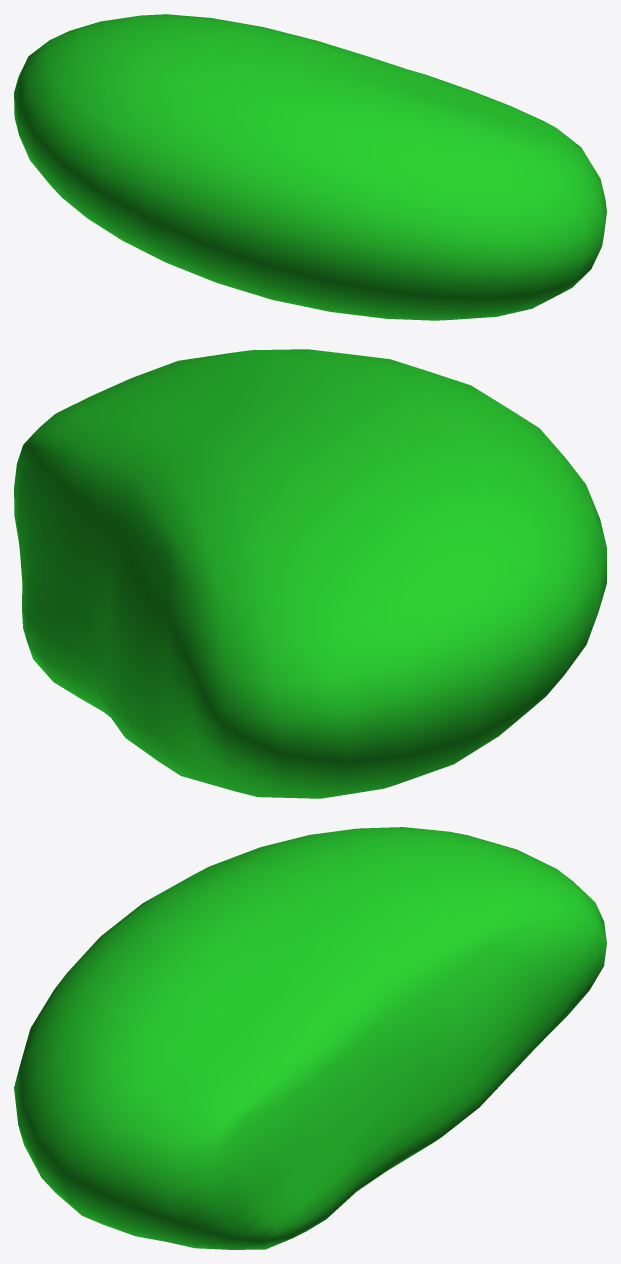
Rendered from candy7.fbx.
The picture shows the model from 3 angles, top to bottom: view 1: azimuth 30°, elevation 25°; view 2: azimuth 150°, elevation 25°; view 3: azimuth 270°, elevation 25°; orthographic projection. The views are drawn at different scales.
Parts seen in each view (by area): view 1: pCube25; view 2: pCube25; view 3: pCube25.
Boxes of the visible parts, box(x1,y1,x2,y2) form: pCube25: box(14, 14, 606, 320); pCube25: box(14, 349, 606, 798); pCube25: box(14, 827, 606, 1249).
Bounding box in the file's own units: 1.51 × 0.7963 × 1.57.
